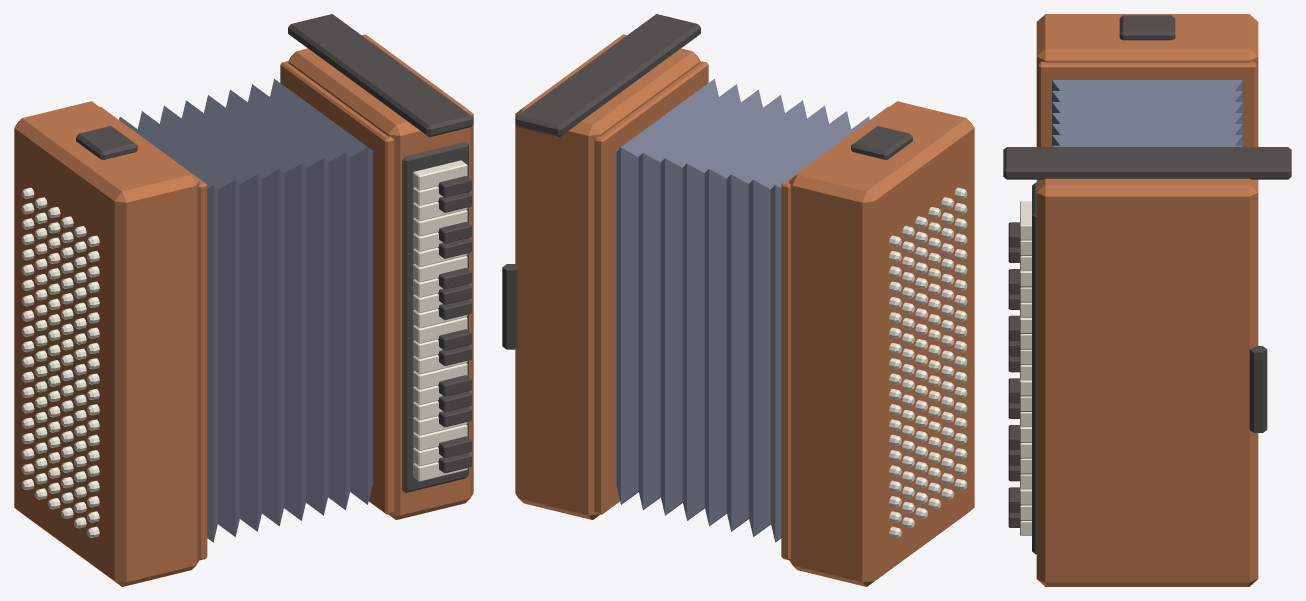
Rendered from orchestra-and-band-instruments-accordion-e7d3c3e6__39305.glb.
The picture shows the model from 3 angles, left to right: view 1: azimuth 30°, elevation 25°; view 2: azimuth 150°, elevation 25°; view 3: azimuth 270°, elevation 25°; orthographic projection.
Visible parts, largest first — view 1: accordion; view 2: accordion; view 3: accordion.
Part boxes in pixels (x1,y1,x2,y2): accordion: [14, 14, 473, 586]; accordion: [502, 14, 974, 586]; accordion: [1003, 14, 1291, 586].
Size of the model in its own units: 0.3959 by 0.41 by 0.26.
